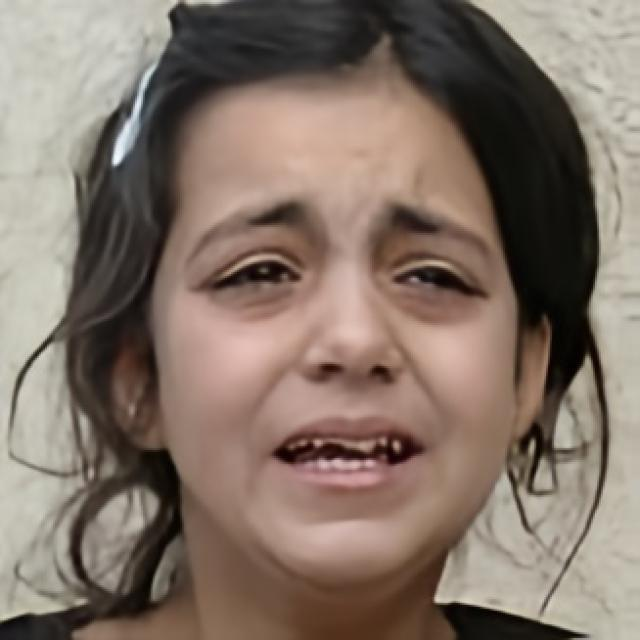sad: (149, 64, 516, 590)
